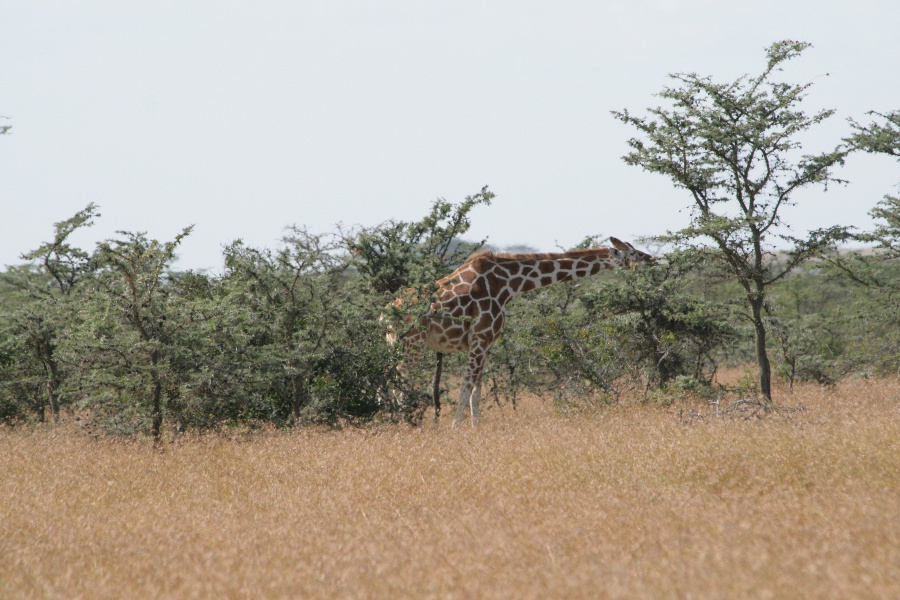giraffe: (372, 223, 665, 430)
